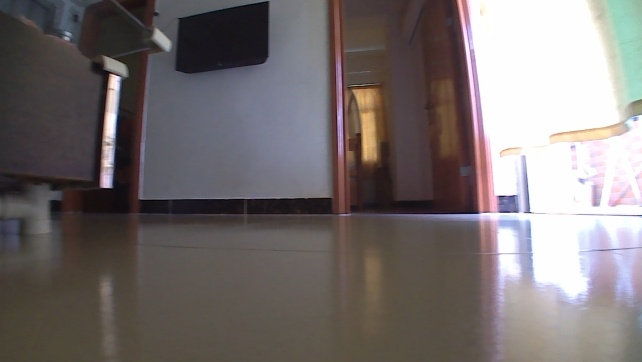door_anno: (415, 0, 496, 215)
